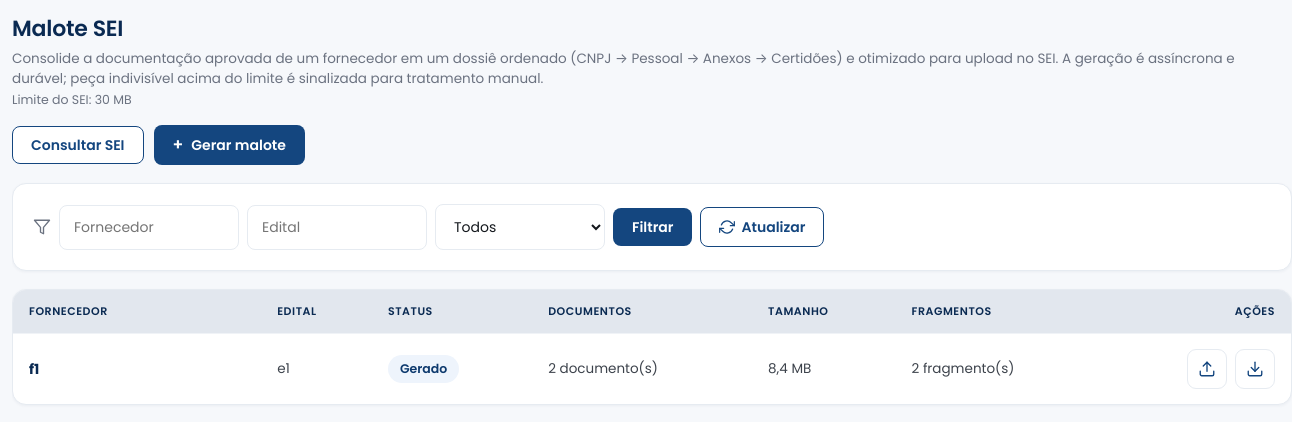
Test case: GerarMalote — Painel Admin do malote SEI (UC010) › envia um malote gerado ao SEI (push) e mostra o número do processo protocolado
Click the button with test id "enviar-sei". click: [1207, 369]
box: [1187,349,1227,389]
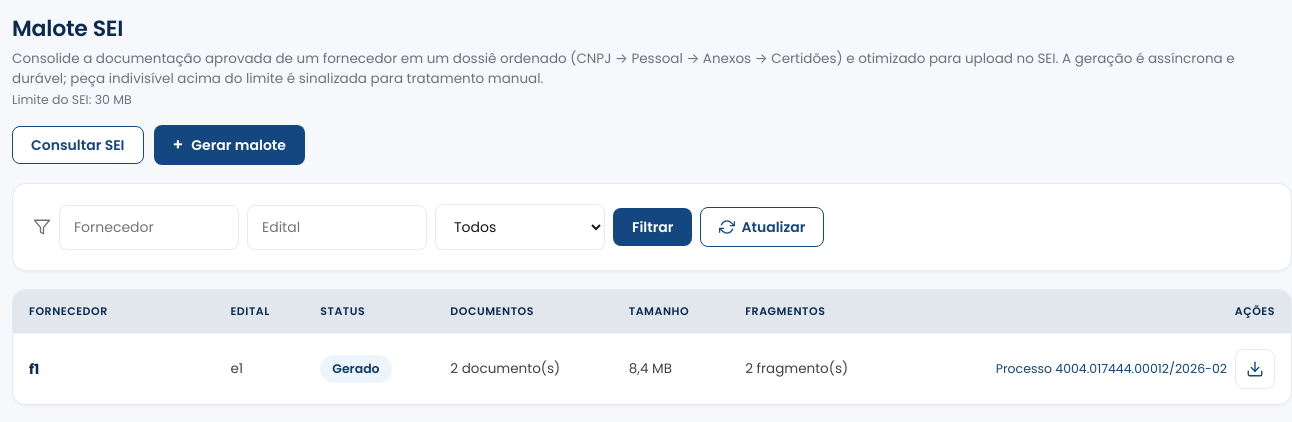
Check: the text with test id "sei-processo" shows "4004.017444.00012/2026-02", box [996,360,1227,377]
